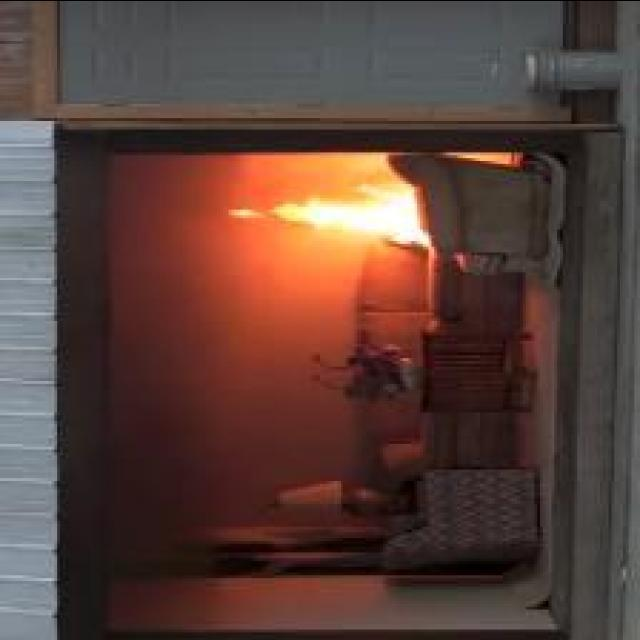Fire: (230, 182, 433, 248)
